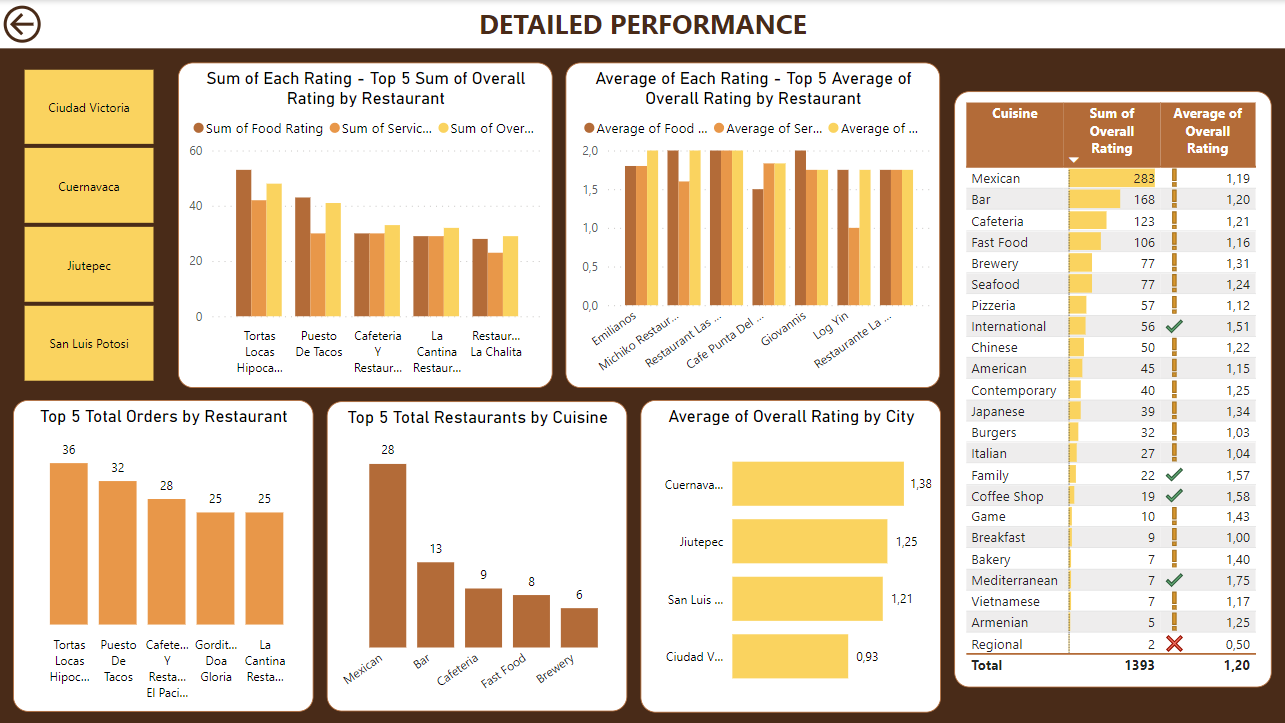

The dashboard page shown, as its layout file describes it:
{"tool":"powerbi","page":{"name":"Detailed Performance","canvas":[1280,720],"ordinal":1},"visuals":[{"type":"slicer","fields":{"Values":["restaurants.City"]},"box":[0,62.1,178.7,322.7],"z":0},{"type":"clusteredColumnChart","title":"Sum of Each Rating - Top 5 Sum of Overall Rating by Restaurant","fields":{"Category":["restaurants.Name"],"Y":["Sum(ratings.Food_Rating)","Sum(ratings.Service_Rating)","Sum(ratings.Overall_Rating)"]},"box":[178.3,61.7,371.7,323.3],"z":2000},{"type":"clusteredColumnChart","title":"Average of Each Rating - Top 5 Average of Overall Rating by Restaurant","fields":{"Category":["restaurants.Name"],"Y":["Avg(ratings.Food Rating)","Avg(ratings.Service Rating)","Avg(ratings.Overall Rating)"]},"box":[563.3,61.7,371.7,323.3],"z":3000},{"type":"clusteredColumnChart","title":"Top 5 Total Orders by Restaurant","fields":{"Category":["restaurants.Name"],"Y":["facts.Total No Orders"]},"box":[14.4,397.4,298,309.8],"z":4000},{"type":"textbox","box":[0,0,1280.6,47.8],"z":5000},{"type":"actionButton","box":[0,0,50.4,48],"z":7000},{"type":"clusteredColumnChart","title":"Top 5 Total Restaurants by Cuisine","fields":{"Y":["Count(restaurants.Restaurant ID)"],"Category":["restaurant_cuisines.Cuisine"]},"box":[326.7,398.3,298.3,308.3],"z":8000},{"type":"clusteredBarChart","fields":{"Y":["Avg(ratings.Overall Rating)"],"Category":["restaurants.City"]},"box":[638.3,396.7,298.3,310],"z":9000},{"type":"tableEx","fields":{"Values":["restaurant_cuisines.Cuisine","Sum(ratings.Overall Rating)","Avg(ratings.Overall Rating)"]},"box":[950,90,315,591.7],"z":10000}]}

Visuals, with their boxes in screenshot pixels (x1, y1, x2, y2), scaled from the page's 1280x720 canvas onto the 1285x723 screenshot:
slicer - restaurants.City: bbox(0, 62, 179, 386)
"Sum of Each Rating - Top 5 Sum of Overall Rating by Restaurant" clusteredColumnChart: bbox(179, 62, 552, 387)
"Average of Each Rating - Top 5 Average of Overall Rating by Restaurant" clusteredColumnChart: bbox(566, 62, 939, 387)
"Top 5 Total Orders by Restaurant" clusteredColumnChart: bbox(14, 399, 314, 710)
textbox: bbox(0, 0, 1284, 48)
actionButton: bbox(0, 0, 51, 48)
"Top 5 Total Restaurants by Cuisine" clusteredColumnChart: bbox(328, 400, 627, 710)
clusteredBarChart - Avg(ratings.Overall Rating) x restaurants.City: bbox(641, 398, 940, 710)
tableEx - restaurant_cuisines.Cuisine x Sum(ratings.Overall Rating): bbox(954, 90, 1270, 685)
